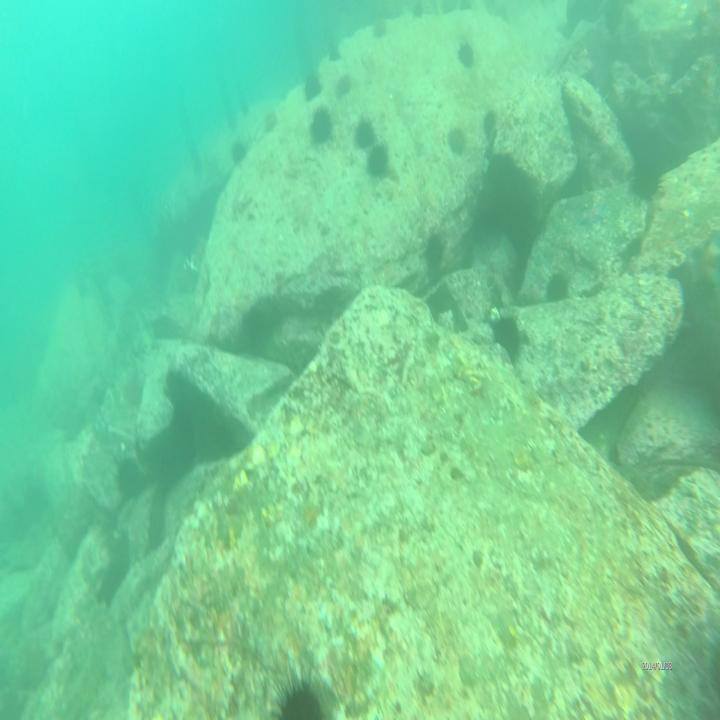echinus: (266, 663, 330, 720), (491, 313, 524, 369), (114, 454, 146, 500), (310, 100, 336, 152), (366, 134, 391, 183), (423, 229, 445, 283), (226, 129, 252, 174), (299, 64, 324, 104), (444, 122, 470, 160), (544, 272, 571, 307), (455, 35, 476, 76), (482, 102, 500, 142), (356, 114, 377, 148), (334, 70, 357, 96), (261, 107, 282, 135), (372, 15, 390, 43), (409, 0, 429, 24), (330, 35, 343, 64)
